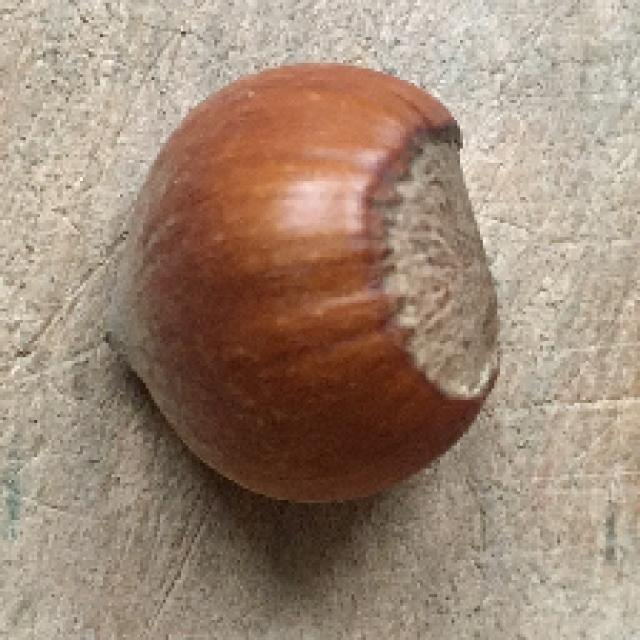QualityHazelnut: (104, 62, 498, 508)
